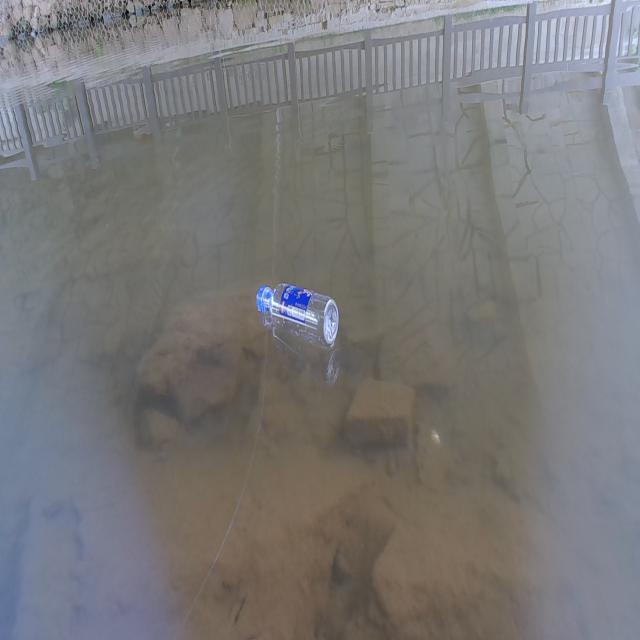garbage: (256, 282, 340, 350)
